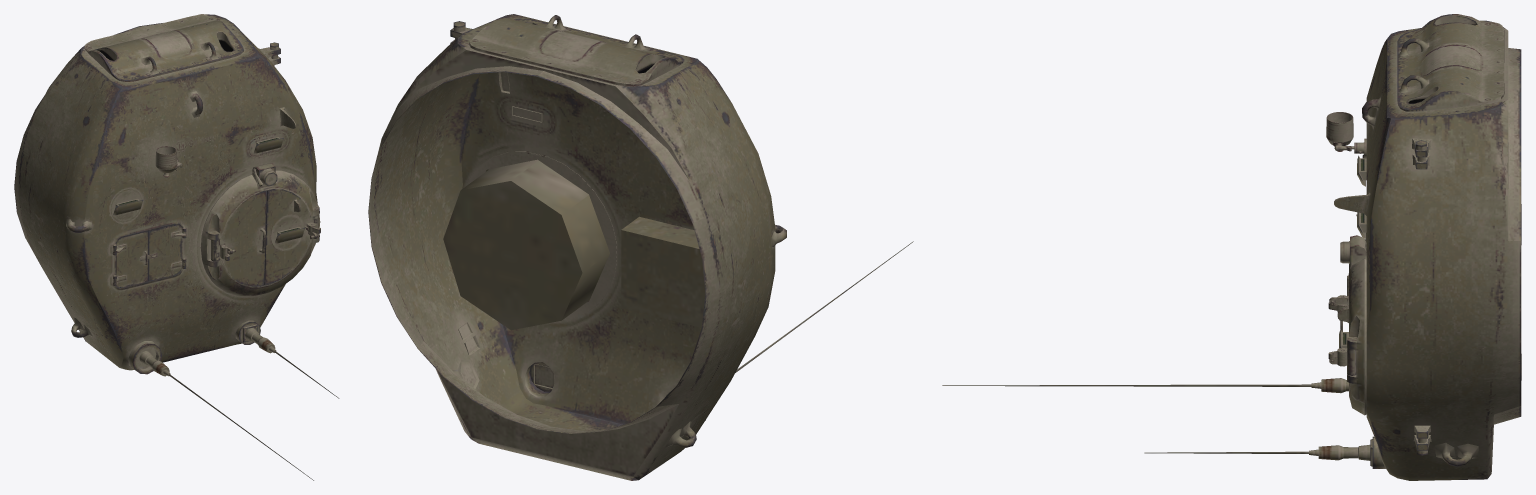
File: Turret_01.glb
The picture shows the model from 3 angles, left to right: view 1: azimuth 30°, elevation 25°; view 2: azimuth 150°, elevation 25°; view 3: azimuth 270°, elevation 25°; orthographic projection. The views are drawn at different scales.
Parts seen in each view (by area): view 1: set_0_group_0; view 2: set_0_group_0; view 3: set_0_group_0.
Boxes of the visible parts, x1,y1,x2,y2 form: set_0_group_0: (14,14,339,480); set_0_group_0: (368,14,913,480); set_0_group_0: (942,14,1521,480).
Size of the model in its own units: 2.05 by 2.3 by 3.12.
1 material, 1 textured.
